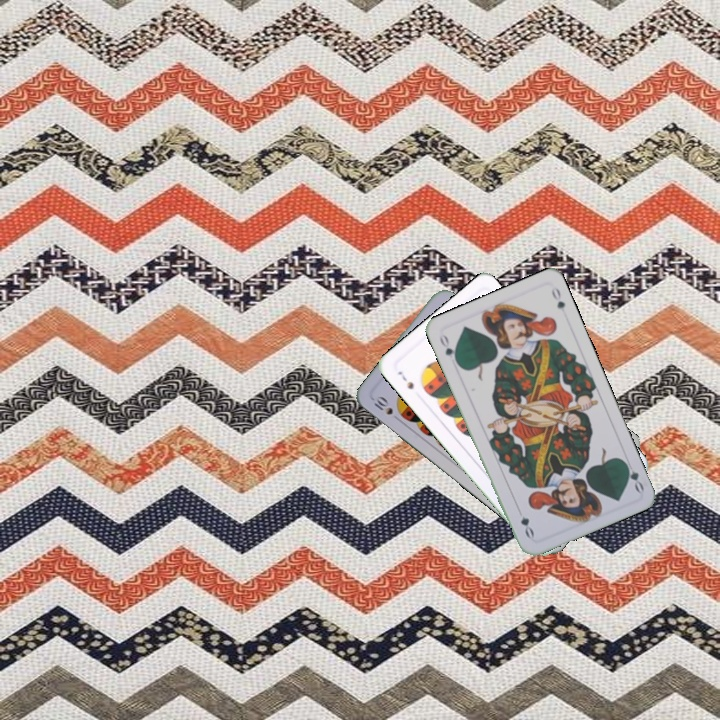GO: (620, 455, 647, 495), (435, 330, 461, 367)
S10: (370, 392, 403, 424)
S7: (394, 367, 416, 392)
